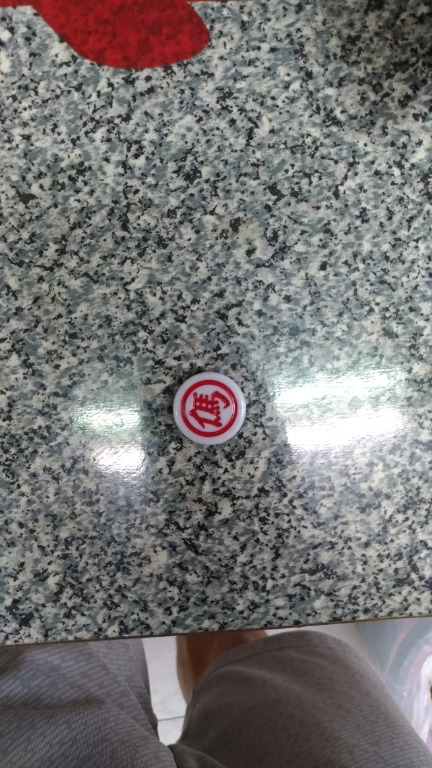r-knight: (156, 360, 259, 447)
